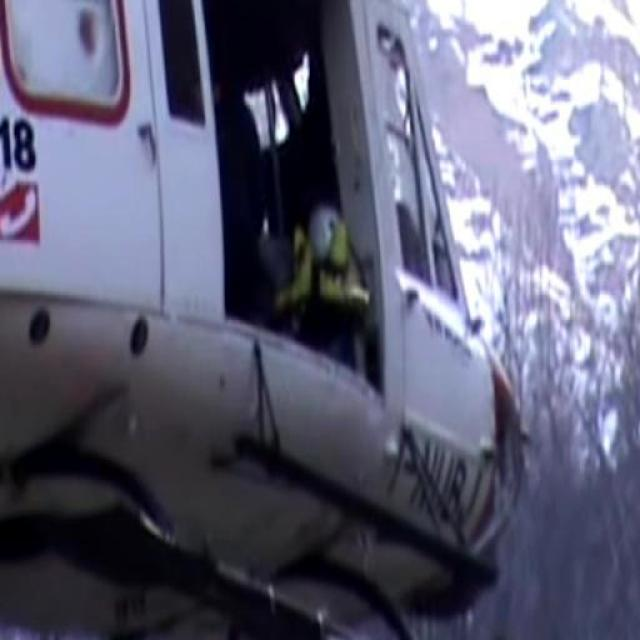drone: (0, 0, 542, 640)
